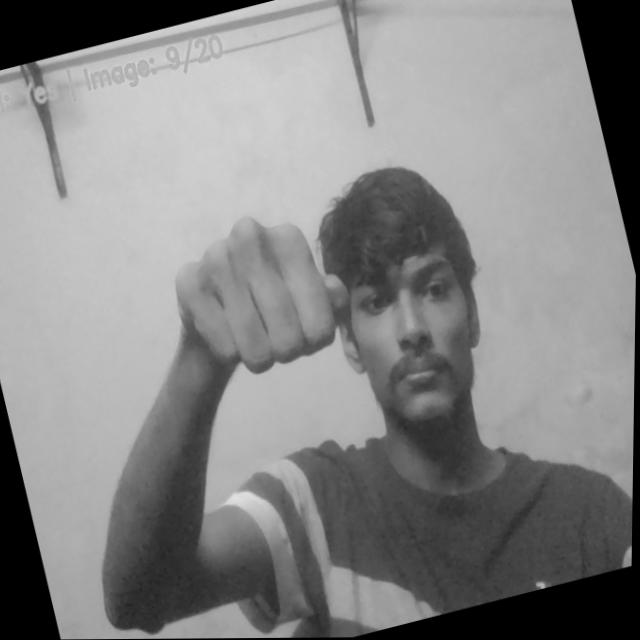Yes: (162, 189, 365, 391)
